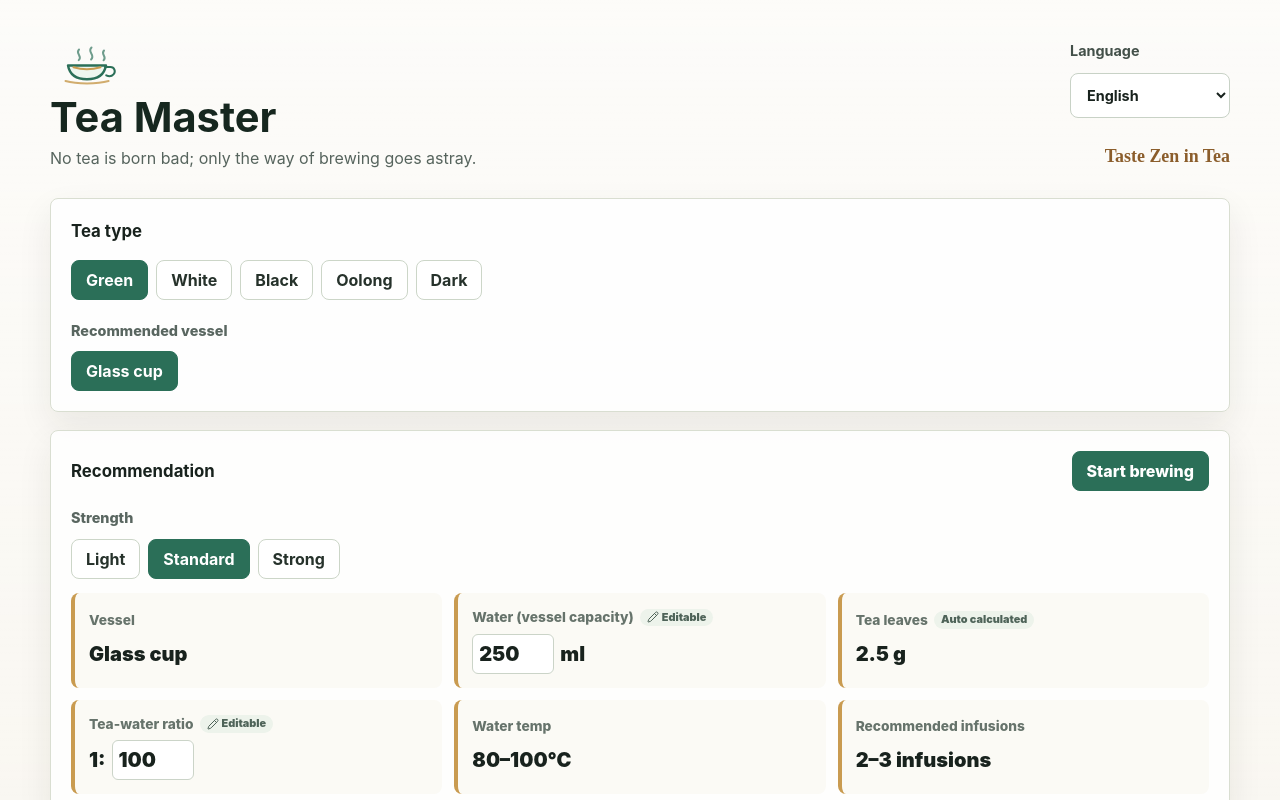
Tea Master app › updates quantified recommendations from vessel capacity when vessel changes
Select "中文" in the dropdown labelled "Language" at (1150,96), box [1070, 73, 1230, 118]
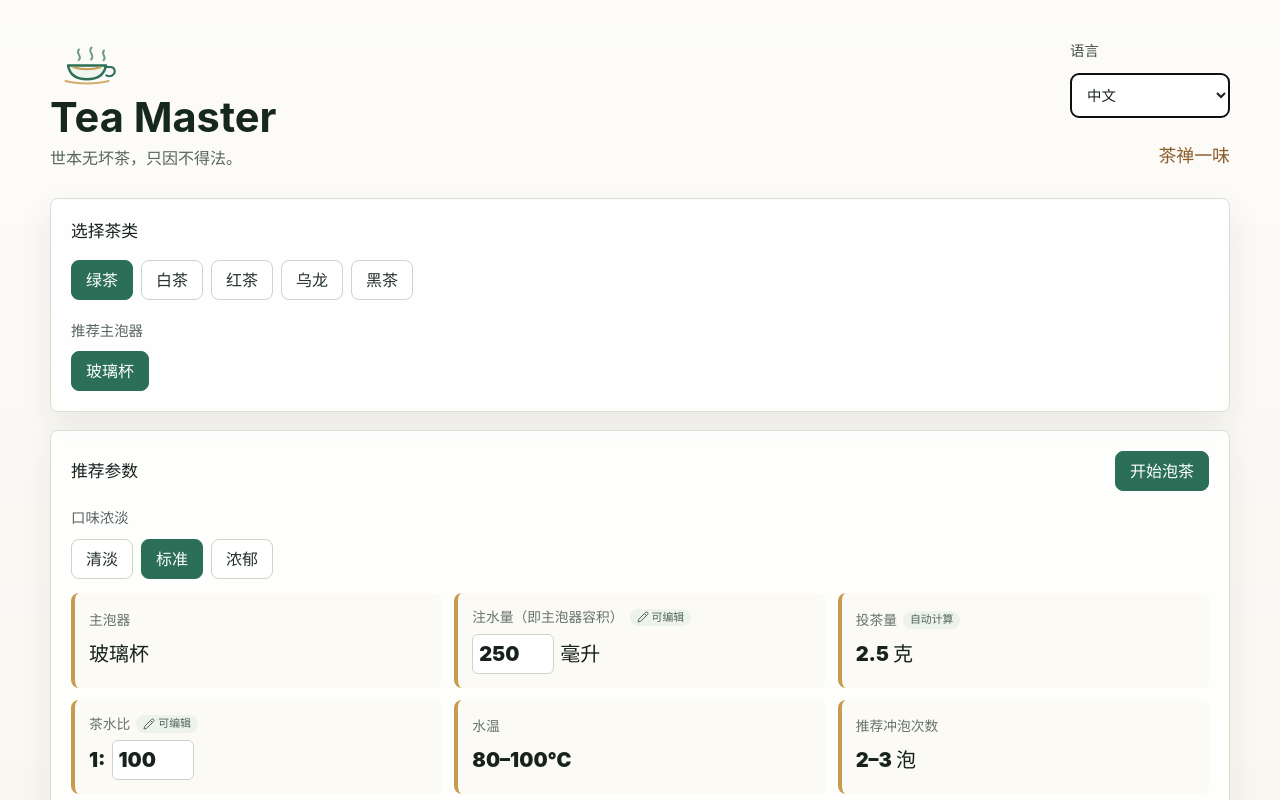
Click the tab "红茶" at (242,280), box [211, 260, 273, 300]
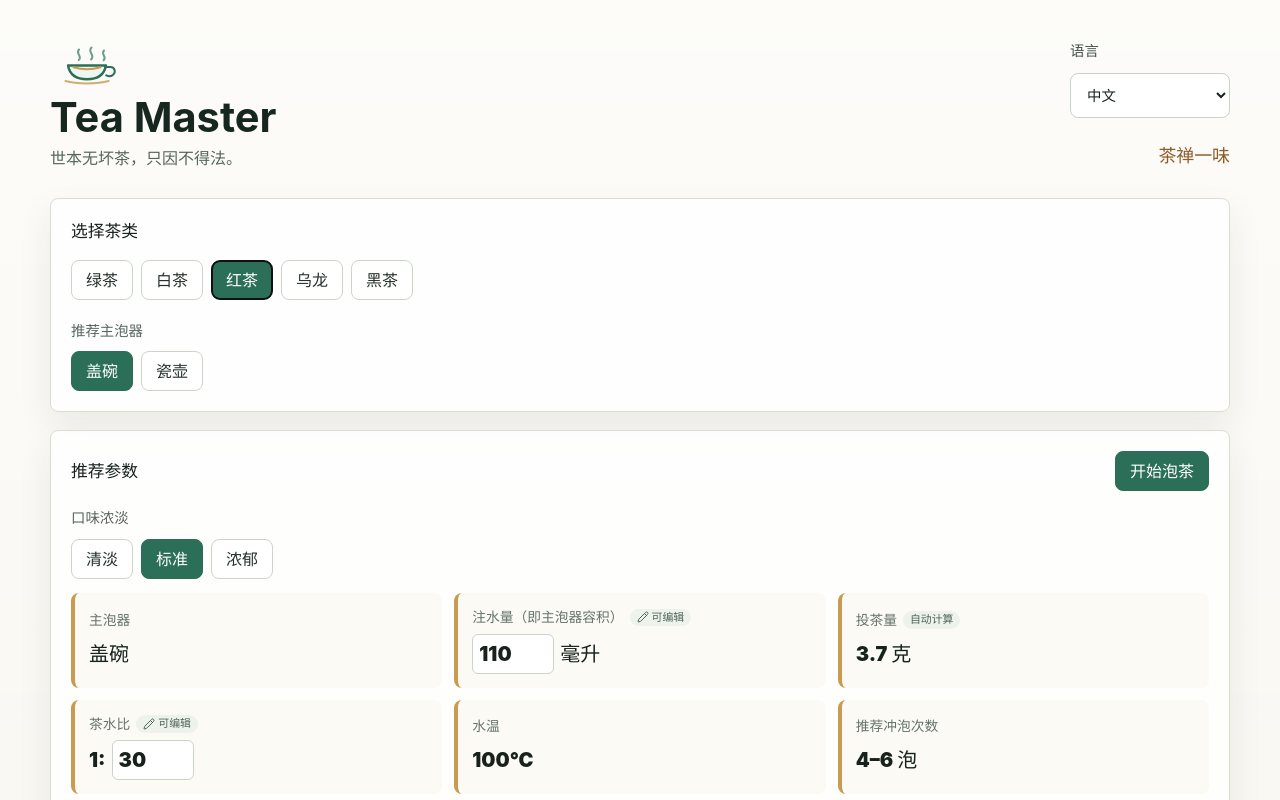
Click the button "瓷壶" at (172,372), box [141, 352, 203, 392]
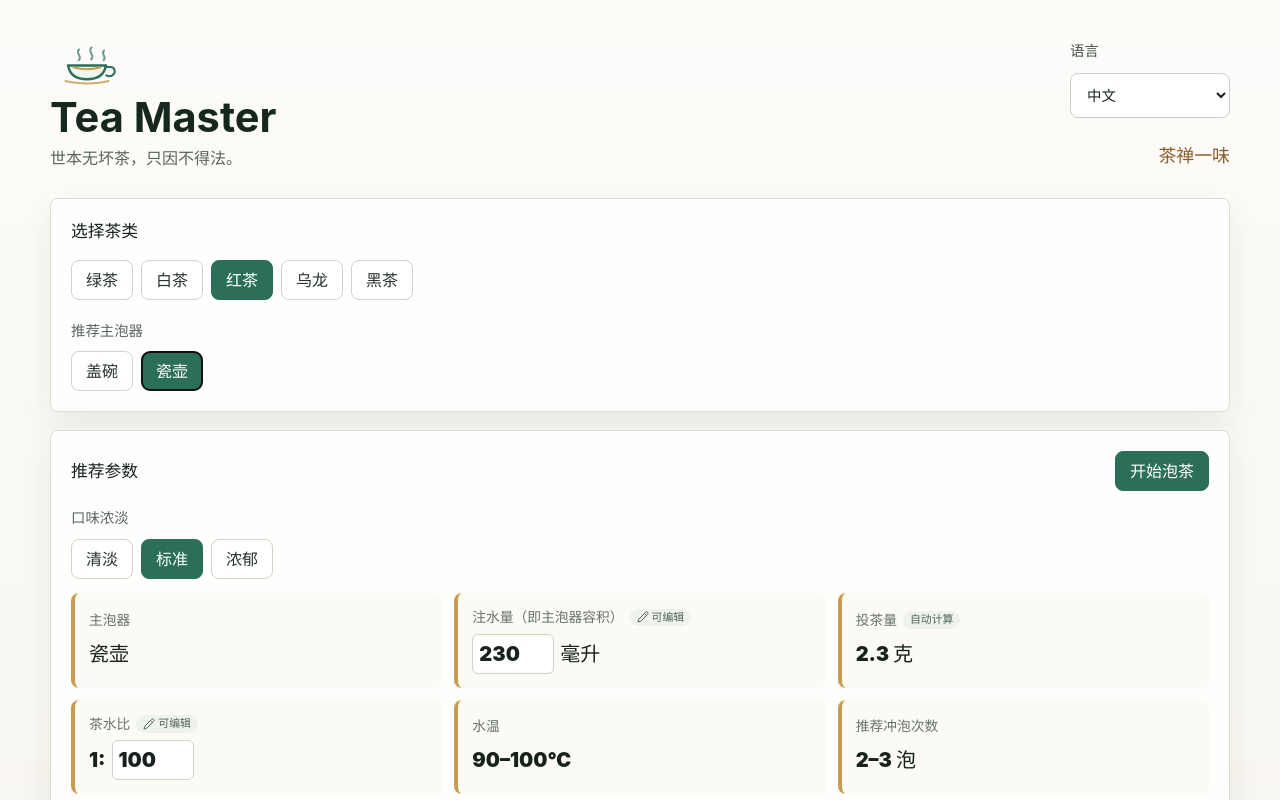
Expected: the number field labelled "注水量（即主泡器容积） 可编辑" holds "230", [472, 634, 554, 674]
Expected: the text with test id "tea-amount" reads "2.3 克", [856, 642, 913, 666]
